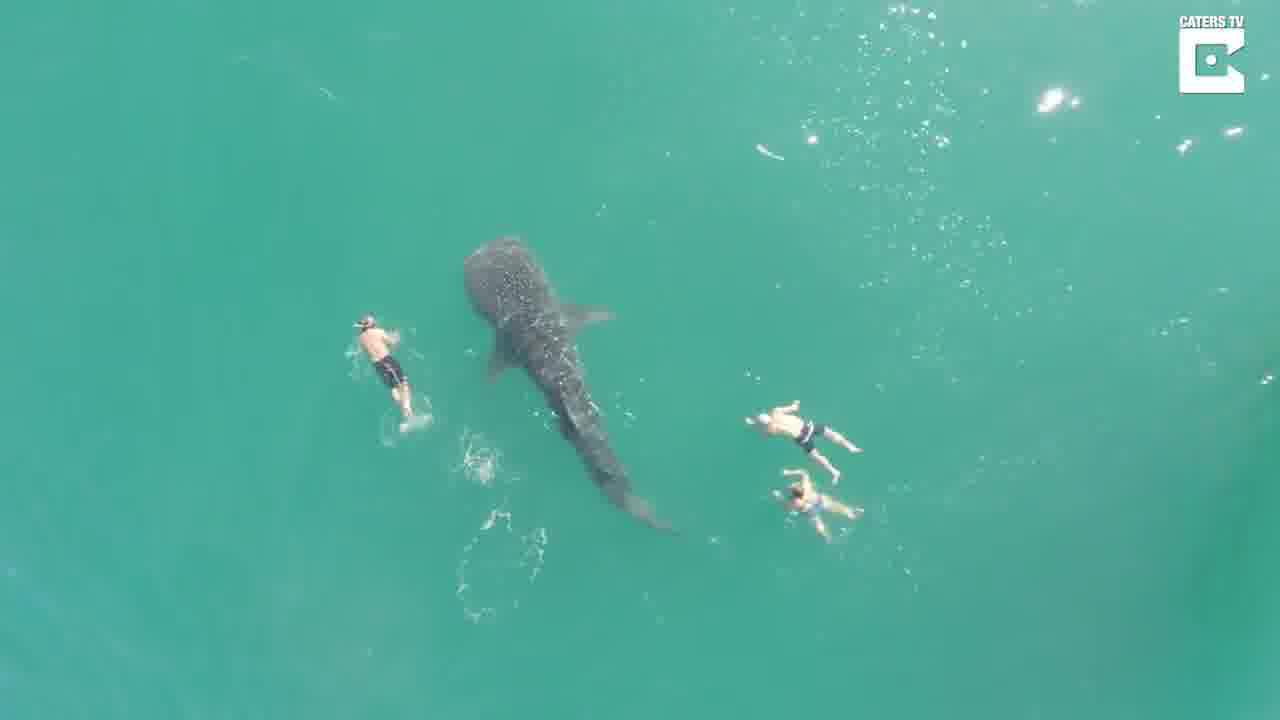human: (342, 315, 421, 425), (746, 401, 855, 479), (762, 466, 864, 540)
